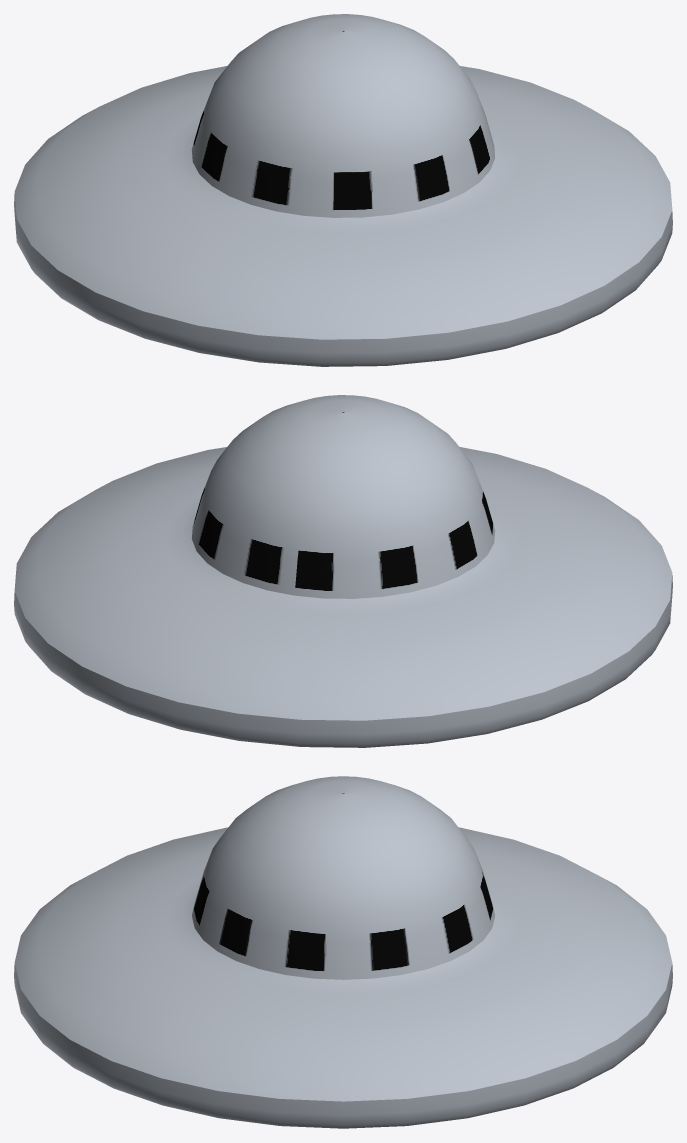
The model's file is UFO.fbx.
3 renders of one model, top to bottom at view 1: azimuth 30°, elevation 25°; view 2: azimuth 150°, elevation 25°; view 3: azimuth 270°, elevation 25°, orthographic.
Visible parts, largest first — view 1: UFO; view 2: UFO; view 3: UFO.
Boxes of the visible parts, left/top/right/bottom form: UFO: left=14, top=14, right=672, bottom=366; UFO: left=14, top=395, right=672, bottom=747; UFO: left=14, top=776, right=672, bottom=1128.
Size of the model in its own units: 472 by 190 by 472.
Materials: 1 (1 with a texture image).
